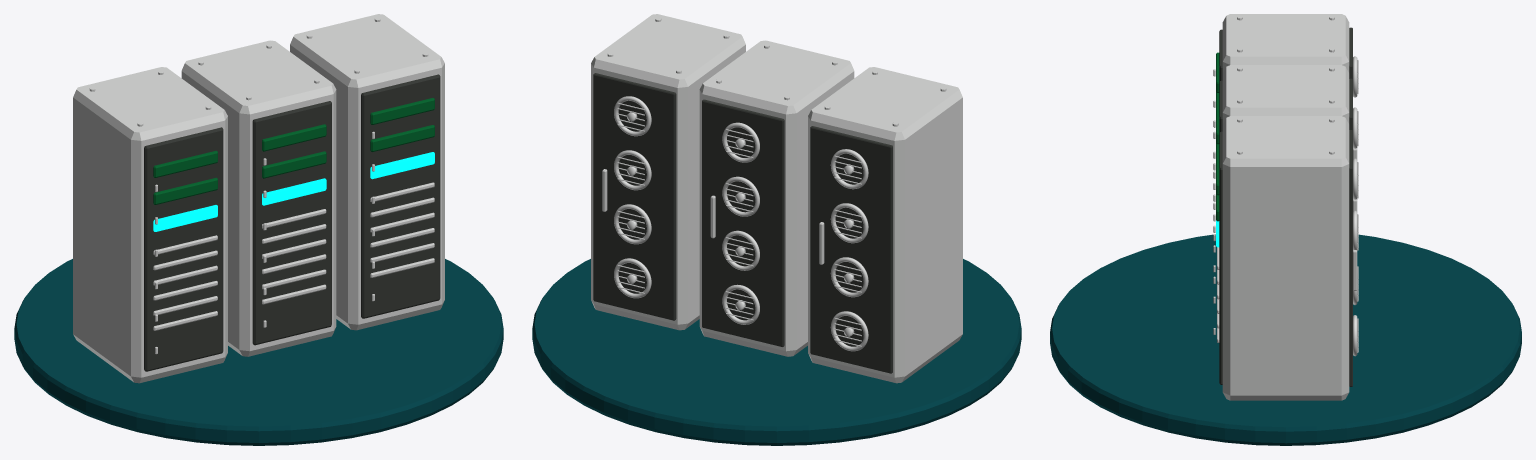
File: supercomputer.glb
3 views of the same model, side by side, from view 1: azimuth 30°, elevation 25°; view 2: azimuth 150°, elevation 25°; view 3: azimuth 270°, elevation 25° (orthographic). The views are drawn at different scales.
Parts seen in each view (by area): view 1: pedestal, rack-1, rack-2, rack-3; view 2: pedestal, rack-1, rack-2, rack-3; view 3: pedestal, rack-3, rack-2, rack-1.
Boxes of the visible parts, x1=… form: pedestal: x1=14, y1=259, x2=503, y2=445; rack-1: x1=73, y1=67, x2=227, y2=383; rack-2: x1=181, y1=40, x2=336, y2=356; rack-3: x1=290, y1=14, x2=444, y2=330; pedestal: x1=532, y1=259, x2=1021, y2=445; rack-1: x1=808, y1=67, x2=962, y2=383; rack-2: x1=699, y1=40, x2=854, y2=356; rack-3: x1=591, y1=14, x2=745, y2=330; pedestal: x1=1050, y1=234, x2=1521, y2=445; rack-3: x1=1213, y1=116, x2=1358, y2=400; rack-2: x1=1213, y1=65, x2=1358, y2=304; rack-1: x1=1213, y1=14, x2=1358, y2=250.
Bounding box in the file's own units: 4.1 × 2.52 × 4.1.
